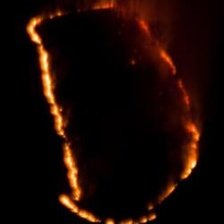fire: (20, 19, 92, 221)
